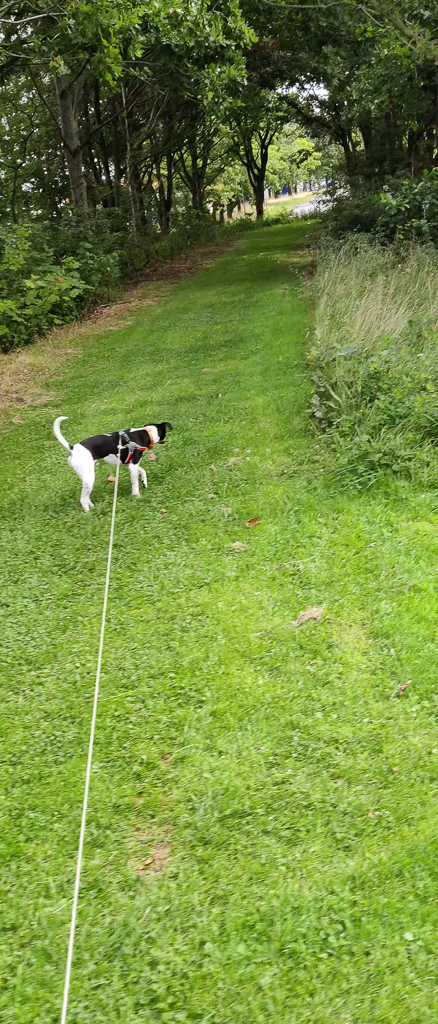Dog: (46, 407, 179, 516)
